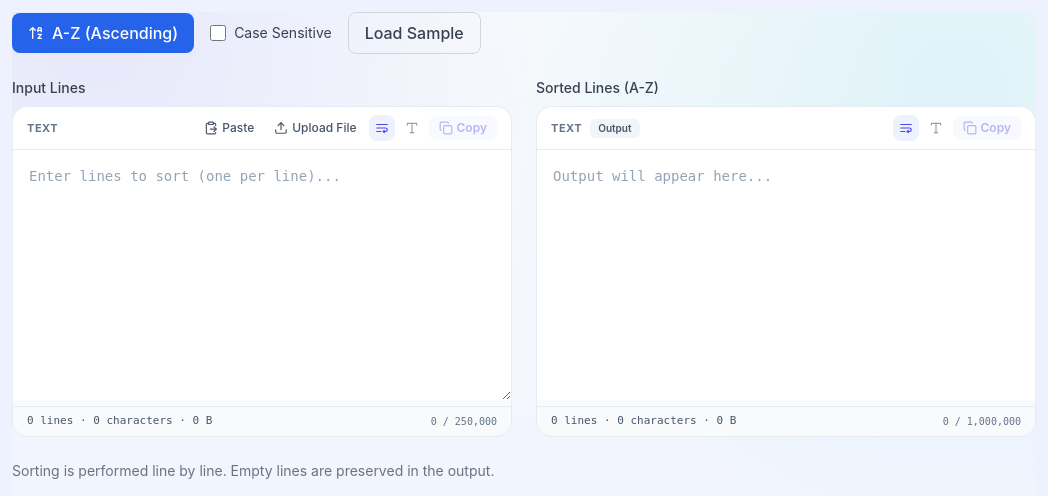
Test: SortLinesTool › associates labels and renders only one copy control per editor
Click the button "Load Sample": (414, 33) 348,12 -> 481,54
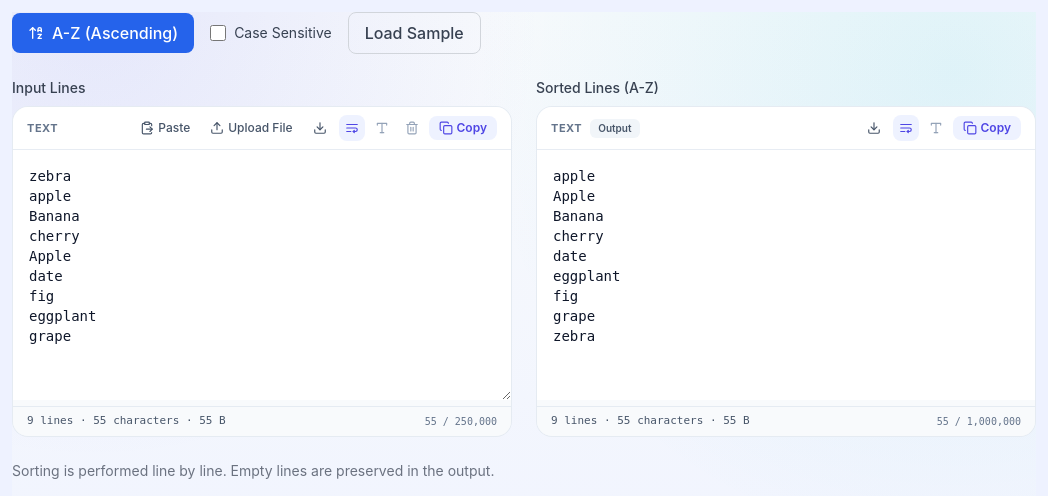
Expected: the number of buttons "Copy" is 2, 428,116 -> 497,140; 952,116 -> 1021,140
